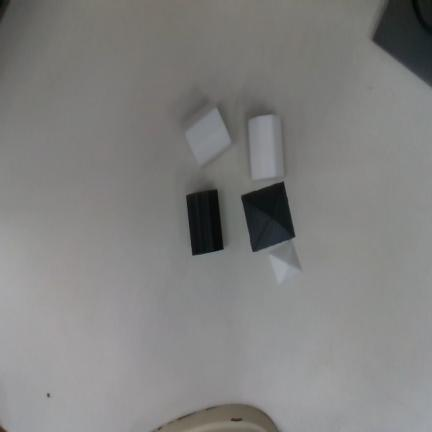Piramide: (241, 181, 296, 253), (267, 238, 302, 285)
Prisma_hexagonal: (180, 99, 231, 168), (186, 188, 224, 256), (248, 114, 285, 182)
